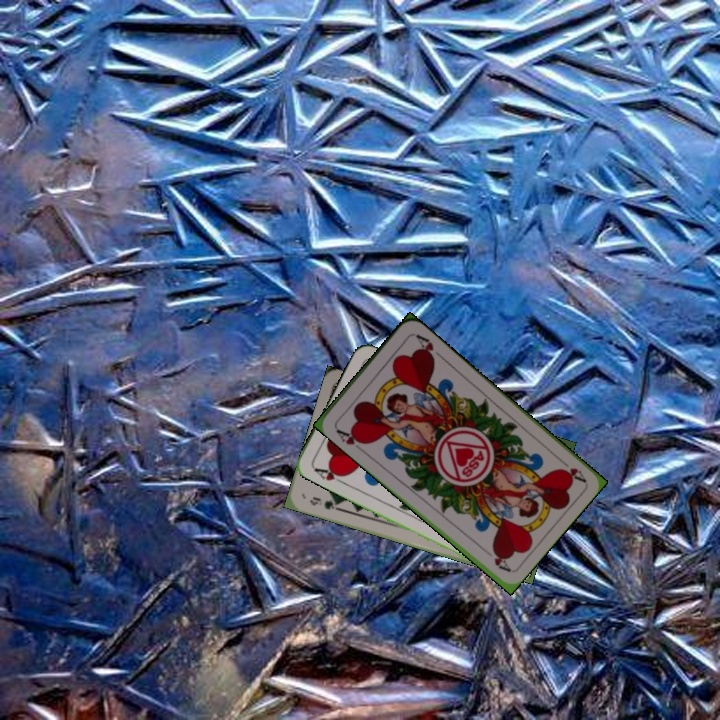G9: (305, 492, 343, 513)
HA: (331, 423, 369, 453), (553, 453, 588, 484), (310, 463, 348, 487)
